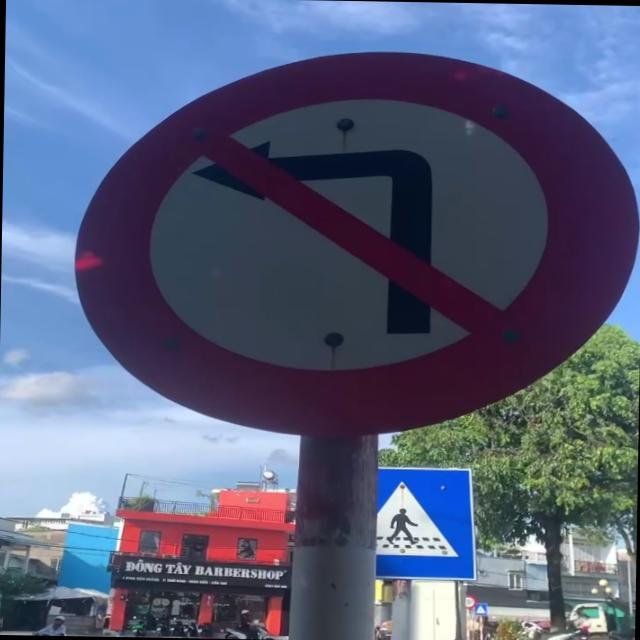Cam_Re_Trai: (80, 42, 640, 444)
